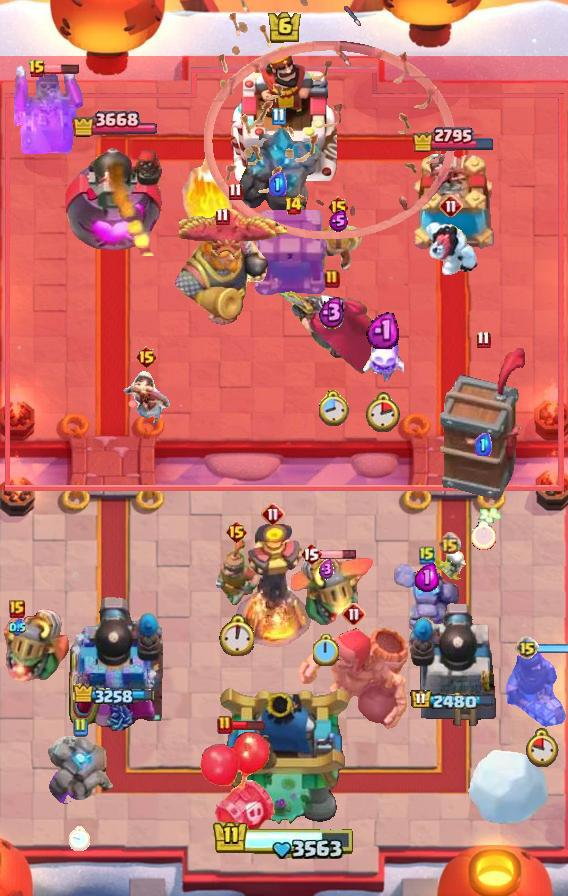bomb: (254, 209, 332, 297)
cannoneer-tower: (234, 128, 322, 226)
clock: (212, 820, 356, 862)
dart-goblin: (438, 346, 528, 502)
earthquake: (211, 537, 261, 609)
electro-dragon: (234, 521, 312, 647)
electro-giant: (296, 625, 412, 735)
electro-spirit: (365, 311, 398, 350), (318, 295, 346, 329), (415, 563, 439, 592), (269, 172, 287, 196), (328, 210, 347, 232), (476, 433, 493, 456), (319, 560, 334, 581), (9, 620, 27, 637)
elixir: (218, 614, 254, 656), (364, 392, 399, 432), (315, 388, 349, 426), (525, 728, 558, 767), (313, 634, 340, 666), (472, 521, 497, 550), (69, 826, 91, 851)
emote: (44, 63, 80, 75), (231, 719, 266, 731), (319, 549, 356, 560), (537, 642, 567, 653)
giant-skeleton: (168, 225, 276, 329)
goblin-giant: (313, 222, 363, 274)
heal-spirit: (431, 549, 467, 581)
inferno-dragon: (504, 646, 568, 729)
king-tower: (216, 684, 352, 826), (231, 43, 337, 181)
mirror: (360, 329, 404, 383)
mother-witch: (179, 206, 291, 276)
night-witch: (275, 552, 377, 628), (0, 608, 70, 682)
queen-tower: (405, 154, 501, 256)
rage: (422, 221, 480, 279)
royal-recruit-evolution: (199, 730, 279, 844)
selected: (71, 108, 156, 140), (412, 125, 497, 152), (72, 684, 155, 709), (410, 688, 496, 712)
skeleton-barrel: (203, 1, 457, 240)
skeleton-dragon: (120, 368, 172, 426)
skeleton-king-bar: (14, 66, 88, 154)
text: (439, 194, 463, 218), (261, 502, 285, 526), (342, 602, 366, 626), (515, 636, 539, 660), (326, 195, 349, 219), (134, 345, 157, 369), (225, 520, 248, 544), (438, 532, 461, 556), (300, 542, 322, 566), (285, 196, 304, 216), (28, 59, 46, 79), (324, 269, 340, 289), (419, 545, 435, 565), (217, 715, 233, 735), (72, 717, 88, 737), (9, 600, 25, 618), (271, 106, 286, 125), (477, 330, 492, 349), (229, 183, 243, 202), (215, 206, 229, 225)
tower-bar: (65, 593, 163, 731), (63, 138, 164, 256), (408, 599, 498, 731)
valkyrie: (175, 144, 235, 234)
valkyrie-evolution: (45, 736, 115, 804), (394, 561, 460, 633)
wall-breaker: (467, 748, 551, 826)
wall-breaker-evolution: (276, 289, 388, 377)
